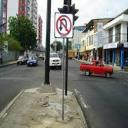NoVirarU: (53, 10, 75, 40)
